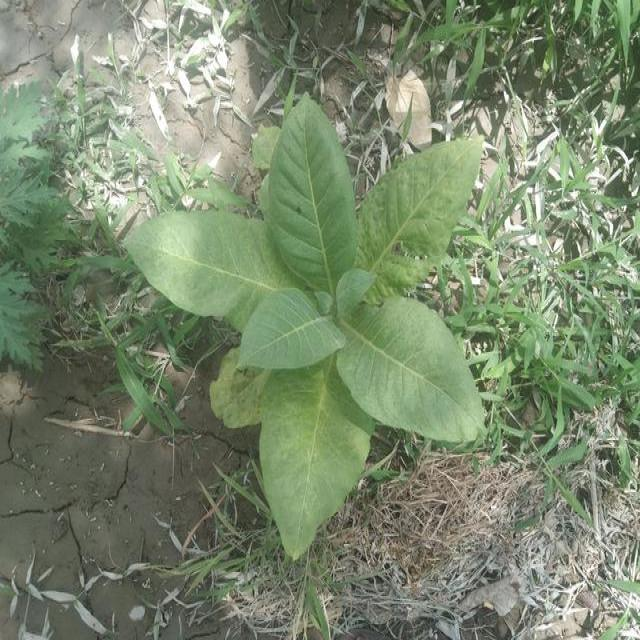crop: (119, 98, 487, 566)
